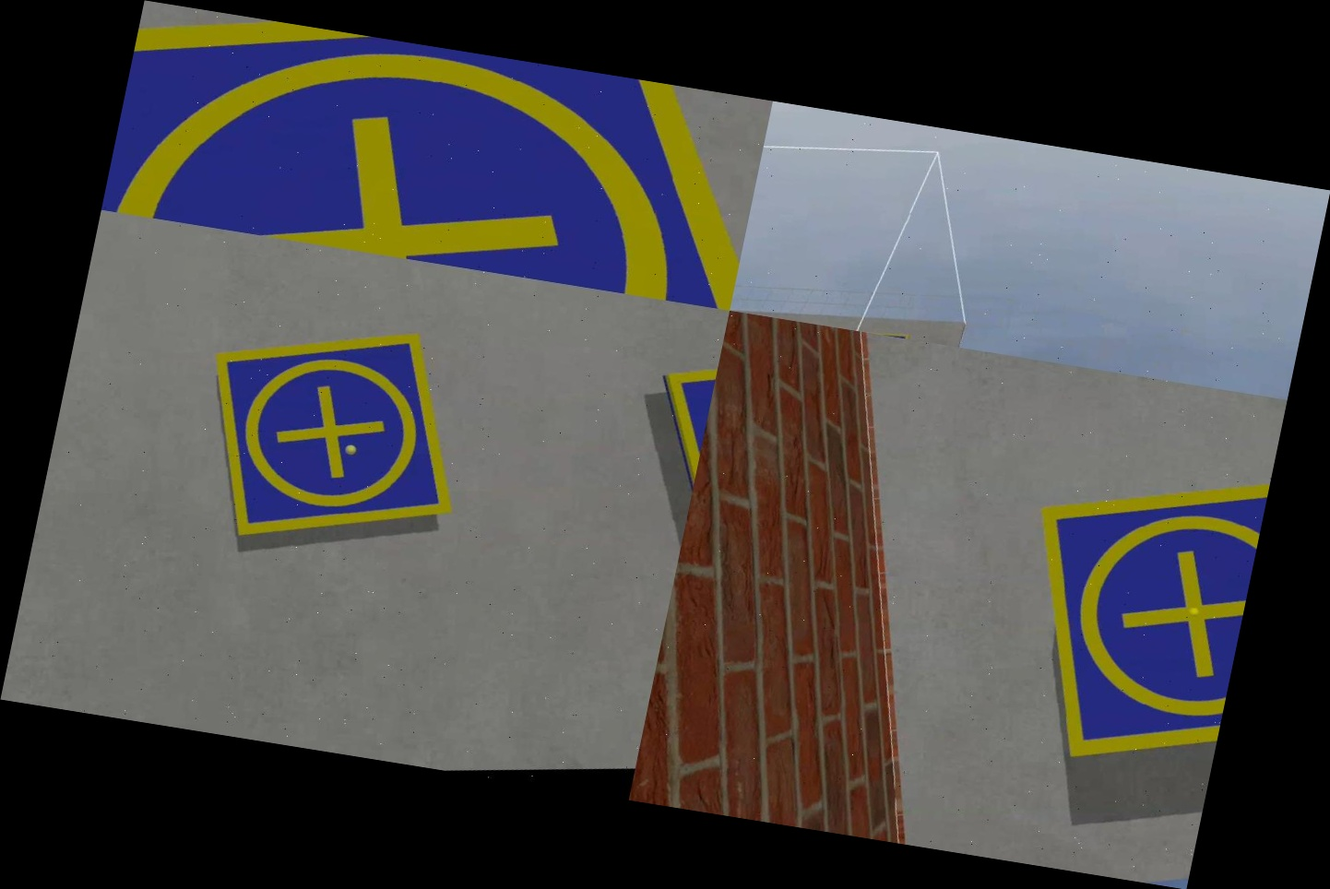small_base: (101, 0, 773, 311), (980, 432, 1272, 789), (172, 296, 497, 578), (620, 326, 725, 564), (849, 320, 920, 341)
